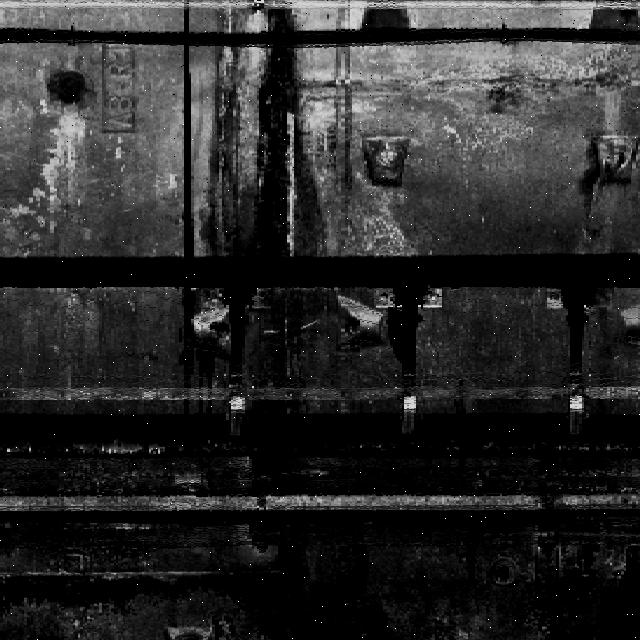leakage: (201, 6, 332, 257), (219, 474, 400, 639), (173, 2, 193, 410), (586, 531, 639, 639), (195, 336, 218, 412)
